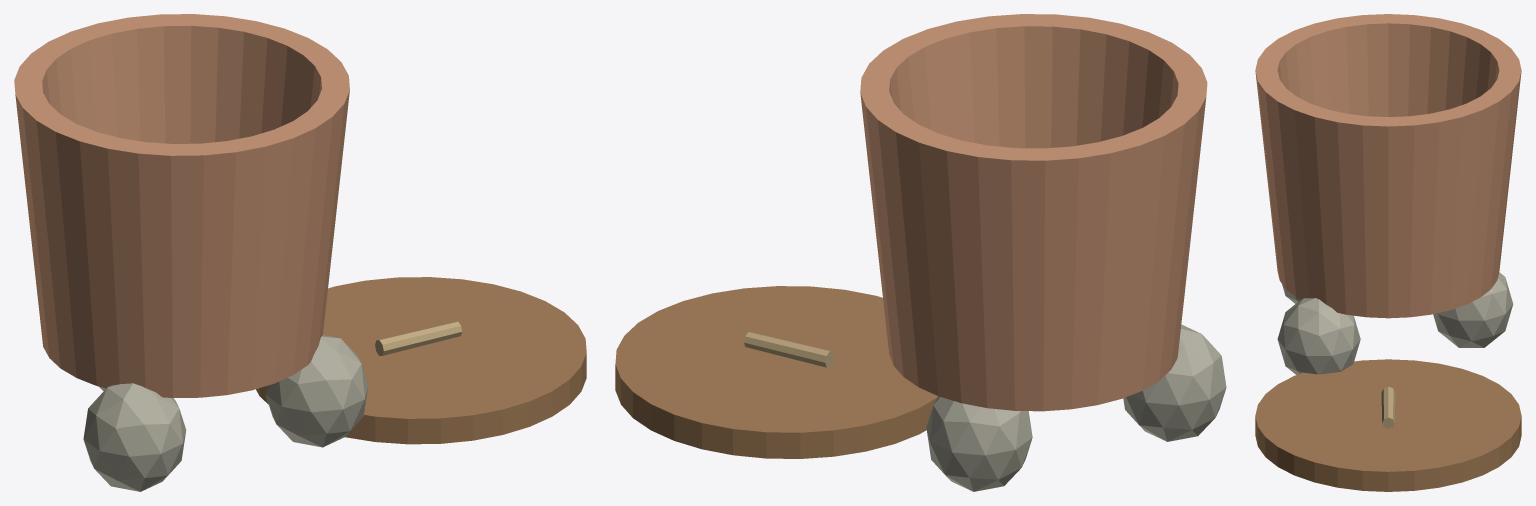
The picture shows the model from 3 angles, left to right: view 1: azimuth 30°, elevation 25°; view 2: azimuth 150°, elevation 25°; view 3: azimuth 270°, elevation 25°; orthographic projection. The views are drawn at different scales.
Parts seen in each view (by area): view 1: CE-027 Raised salt storage bin and cover batched; view 2: CE-027 Raised salt storage bin and cover batched; view 3: CE-027 Raised salt storage bin and cover batched.
Boxes of the visible parts, x1,y1,x2,y2 form: CE-027 Raised salt storage bin and cover batched: [14, 14, 586, 491]; CE-027 Raised salt storage bin and cover batched: [615, 14, 1226, 491]; CE-027 Raised salt storage bin and cover batched: [1255, 14, 1521, 491].
Bounding box in the file's own units: 1.74 × 1.1 × 0.96.
